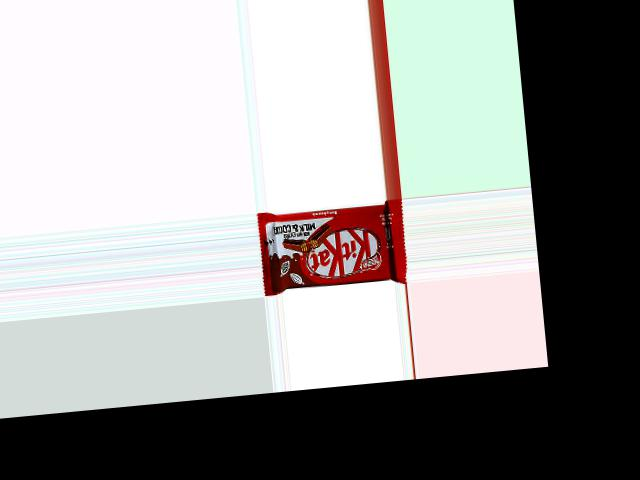chocolate: (255, 198, 408, 296)
